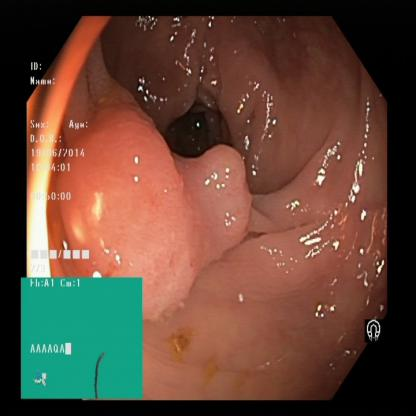Labels: (26, 58, 101, 279), (22, 278, 142, 401), (364, 313, 388, 353)
Polyps: (74, 130, 241, 295)
